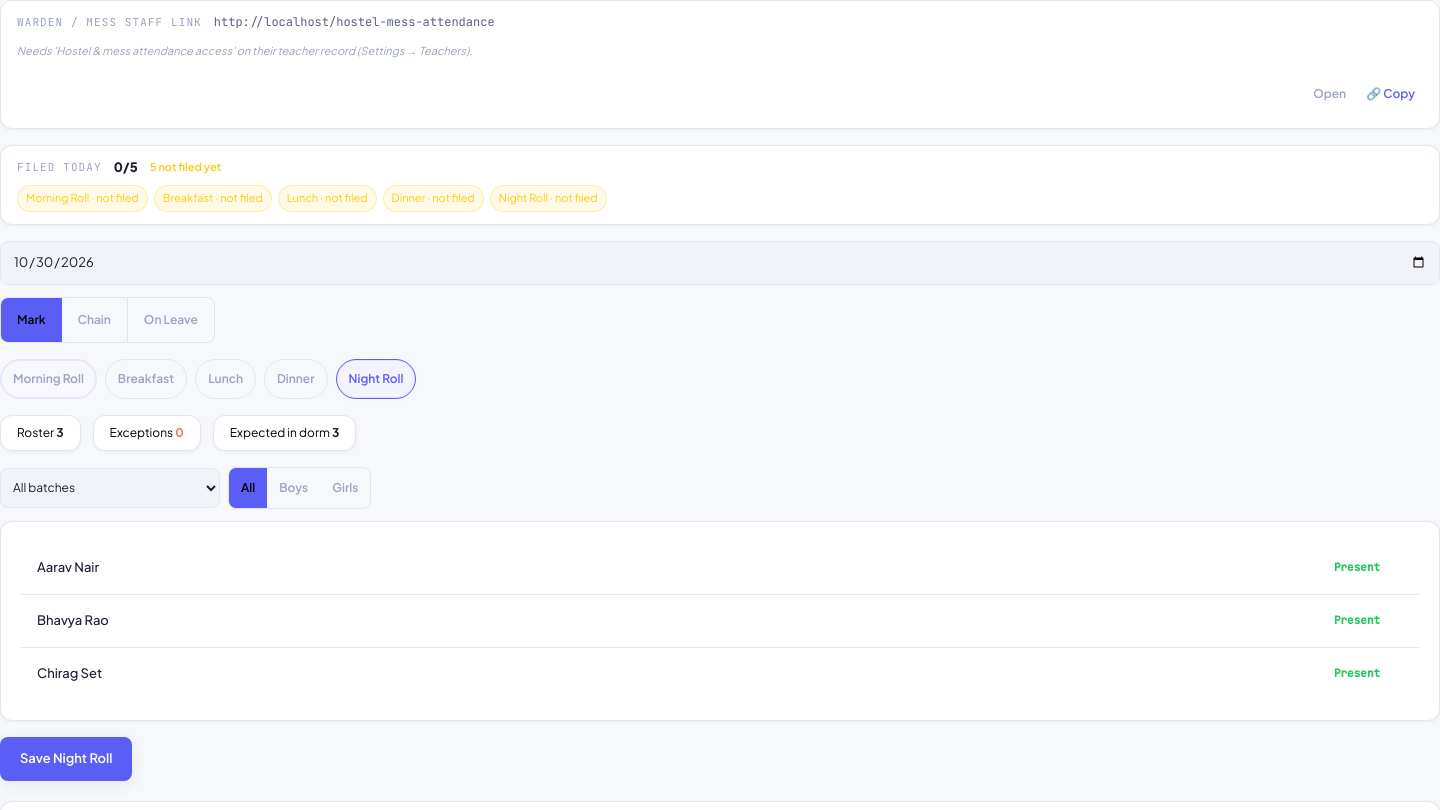
HostelTab — exception marking + reconciliation › cycles a boarder present→absent and updates the away/expected tally
The width and height of the screenshot is (1440, 810).
Click the button with aria-label "Aarav Nair: Present" at (1357, 568), box [1311,550,1403,586]
(page scrolled)
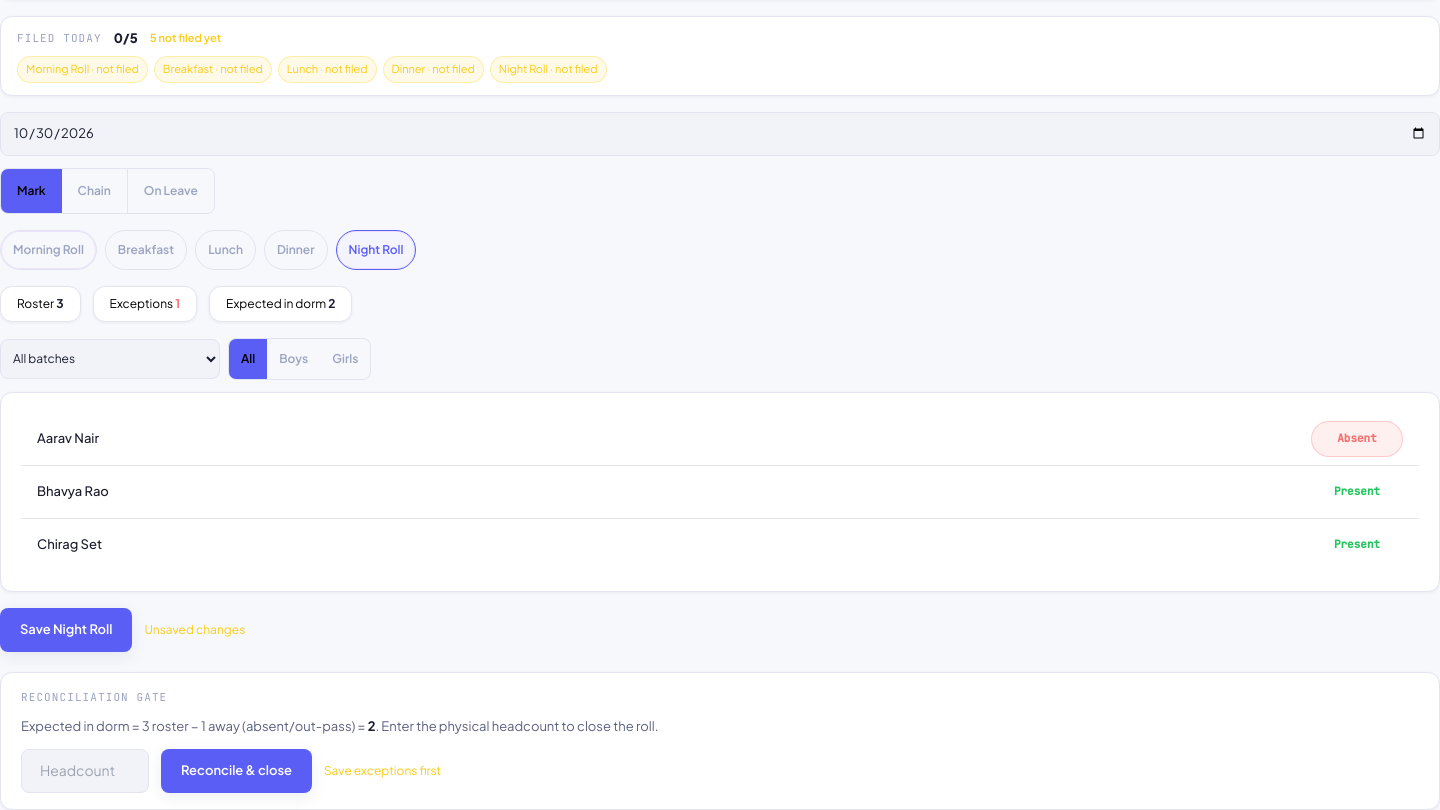
Expected: the button with aria-label "Aarav Nair: Absent" is shown, [1311,420,1403,456]
Expected: the text "Reconciliation gate" shows "1 away", [0,672,1439,809]
Expected: the text "Reconciliation gate" shows "= 2.", [0,672,1439,809]
